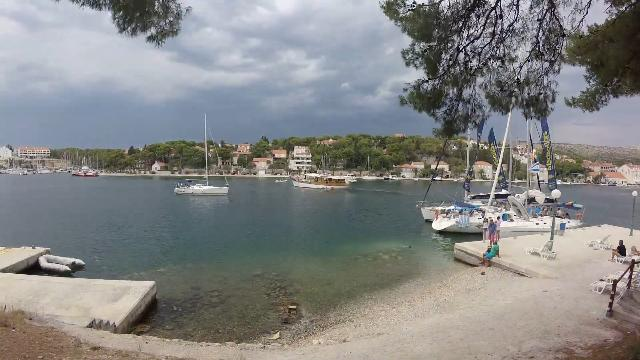Freighter: (285, 170, 357, 194)
Sailboat: (171, 177, 237, 199)
speedboat: (275, 175, 289, 185)
